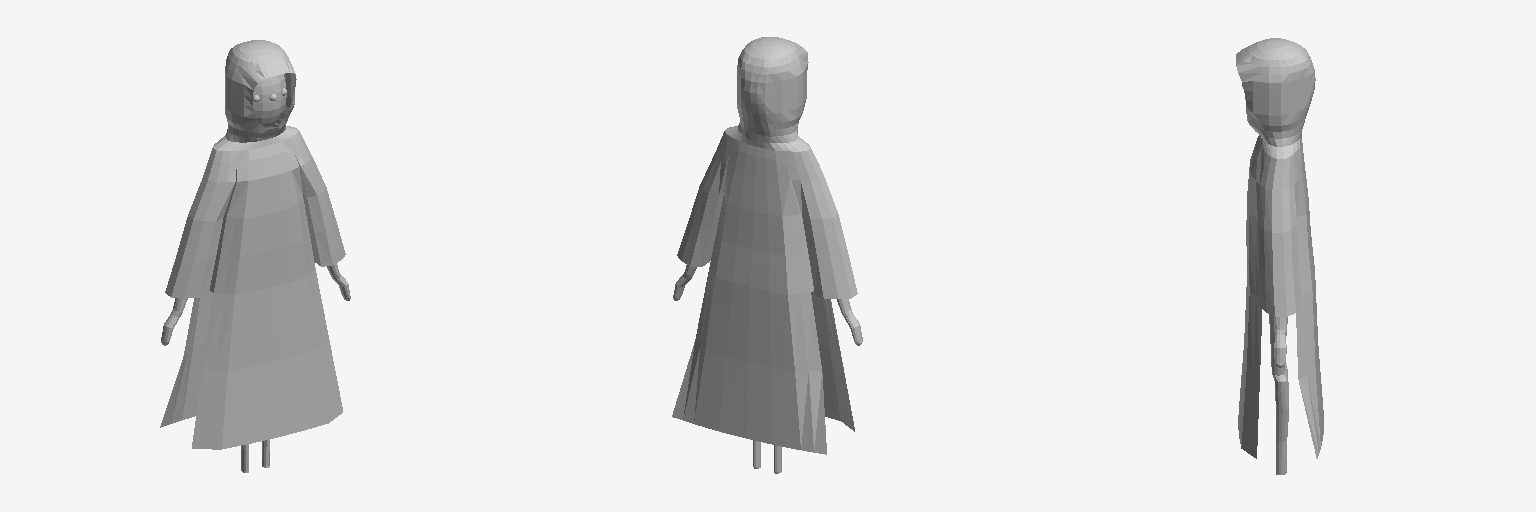
Rendered from Etalo_body_0204_2.obj.
The picture shows the model from 3 angles: view 1: azimuth 30°, elevation 25°; view 2: azimuth 150°, elevation 25°; view 3: azimuth 270°, elevation 25°; orthographic projection.
Parts seen in each view (by area): view 1: Cone, Cube_Cube.001; view 2: Cone, Cube_Cube.001; view 3: Cone, Cube_Cube.001.
Boxes of the visible parts, x1,y1,x2,y2 form: Cone: [160, 40, 345, 449]; Cube_Cube.001: [161, 74, 350, 472]; Cone: [672, 37, 857, 454]; Cube_Cube.001: [673, 265, 862, 473]; Cone: [1236, 38, 1323, 458]; Cube_Cube.001: [1245, 98, 1288, 474].
Bounding box in the file's own units: 0.698 × 1.51 × 0.2852.